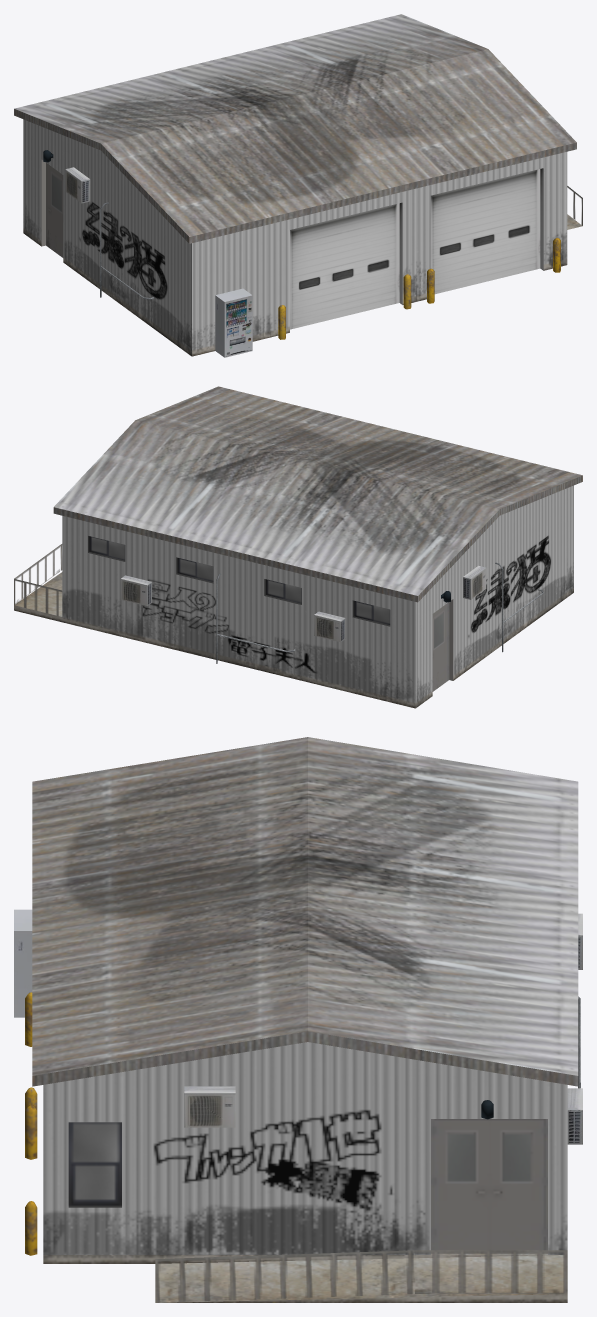
The model's file is psx_japanese_warehouse.glb.
The picture shows the model from 3 angles, top to bottom: view 1: azimuth 30°, elevation 25°; view 2: azimuth 150°, elevation 25°; view 3: azimuth 270°, elevation 25°; orthographic projection. The views are drawn at different scales.
Visible parts, largest first — view 1: PSX Warehouse, Props; view 2: PSX Warehouse, Props; view 3: PSX Warehouse, Props.
Boxes of the visible parts, box(x1,y1,x2,y2) form: PSX Warehouse: box(14, 14, 582, 356); Props: box(65, 167, 252, 357); PSX Warehouse: box(14, 386, 582, 708); Props: box(120, 562, 543, 663); PSX Warehouse: box(25, 737, 578, 1302); Props: box(14, 909, 582, 1144).
Bounding box in the file's own units: 7.99 × 2.67 × 5.81.
2 materials, 2 textured.
